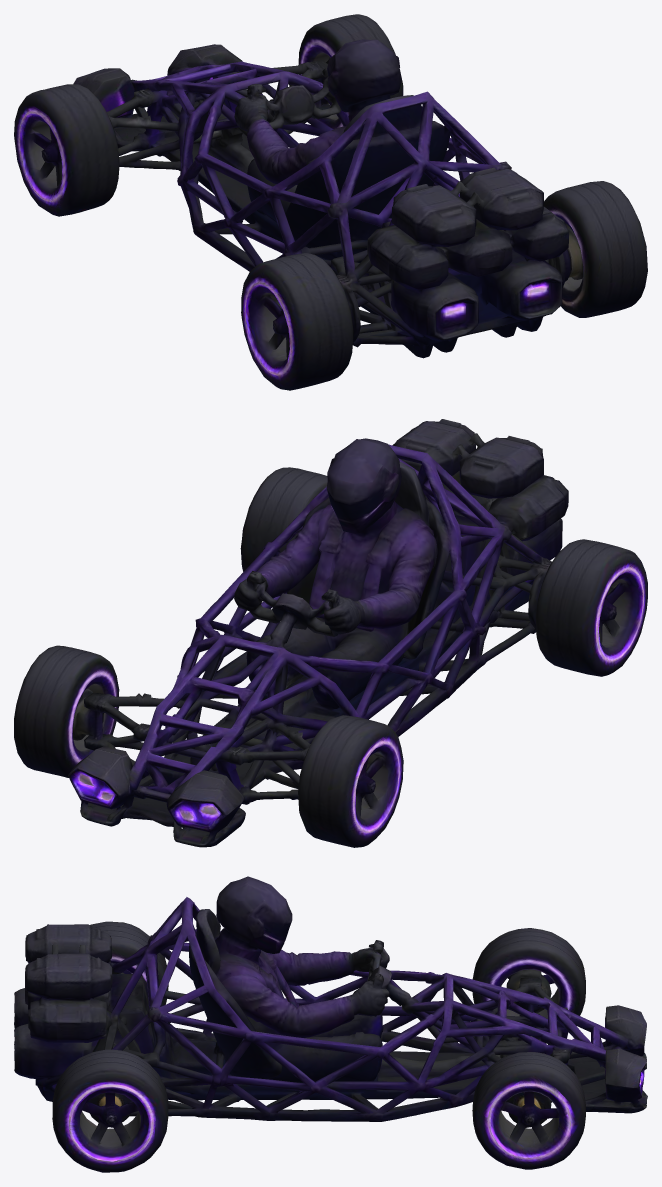
File: zenflow-dark.glb
The picture shows the model from 3 angles, top to bottom: view 1: azimuth 30°, elevation 25°; view 2: azimuth 150°, elevation 25°; view 3: azimuth 270°, elevation 25°; orthographic projection. The views are drawn at different scales.
Visible parts, largest first — view 1: chassis, wheel-rl, wheel-fl, wheel-rr, wheel-fr; view 2: chassis, wheel-rl, wheel-fl, wheel-fr, wheel-rr; view 3: chassis, wheel-rr, wheel-fr, wheel-fl, wheel-rl.
Part boxes in pixels (x1=…): chassis: x1=73, y1=39, x2=570, y2=358; wheel-rl: x1=241, y1=253, x2=353, y2=390; wheel-fl: x1=14, y1=84, x2=119, y2=216; wheel-rr: x1=543, y1=181, x2=647, y2=317; wheel-fr: x1=298, y1=14, x2=403, y2=129; chassis: x1=68, y1=419, x2=568, y2=847; wheel-rl: x1=535, y1=539, x2=647, y2=676; wheel-fl: x1=298, y1=715, x2=403, y2=847; wheel-fr: x1=14, y1=645, x2=119, y2=777; wheel-rr: x1=240, y1=467, x2=327, y2=571; chassis: x1=14, y1=876, x2=647, y2=1121; wheel-rr: x1=52, y1=1049, x2=168, y2=1172; wheel-fr: x1=472, y1=1052, x2=585, y2=1169; wheel-fl: x1=472, y1=928, x2=585, y2=1043; wheel-rl: x1=90, y1=921, x2=168, y2=1005.
Bounding box in the file's own units: 2.58 × 1.72 × 4.5.
Materials: 1 (1 with a texture image).
